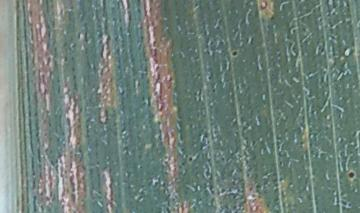tarspot: (344, 169, 359, 180), (186, 154, 196, 165), (230, 49, 240, 58)
